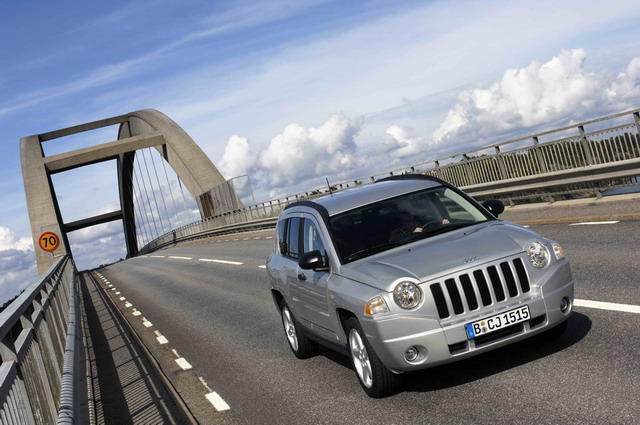car: (214, 170, 598, 400)
